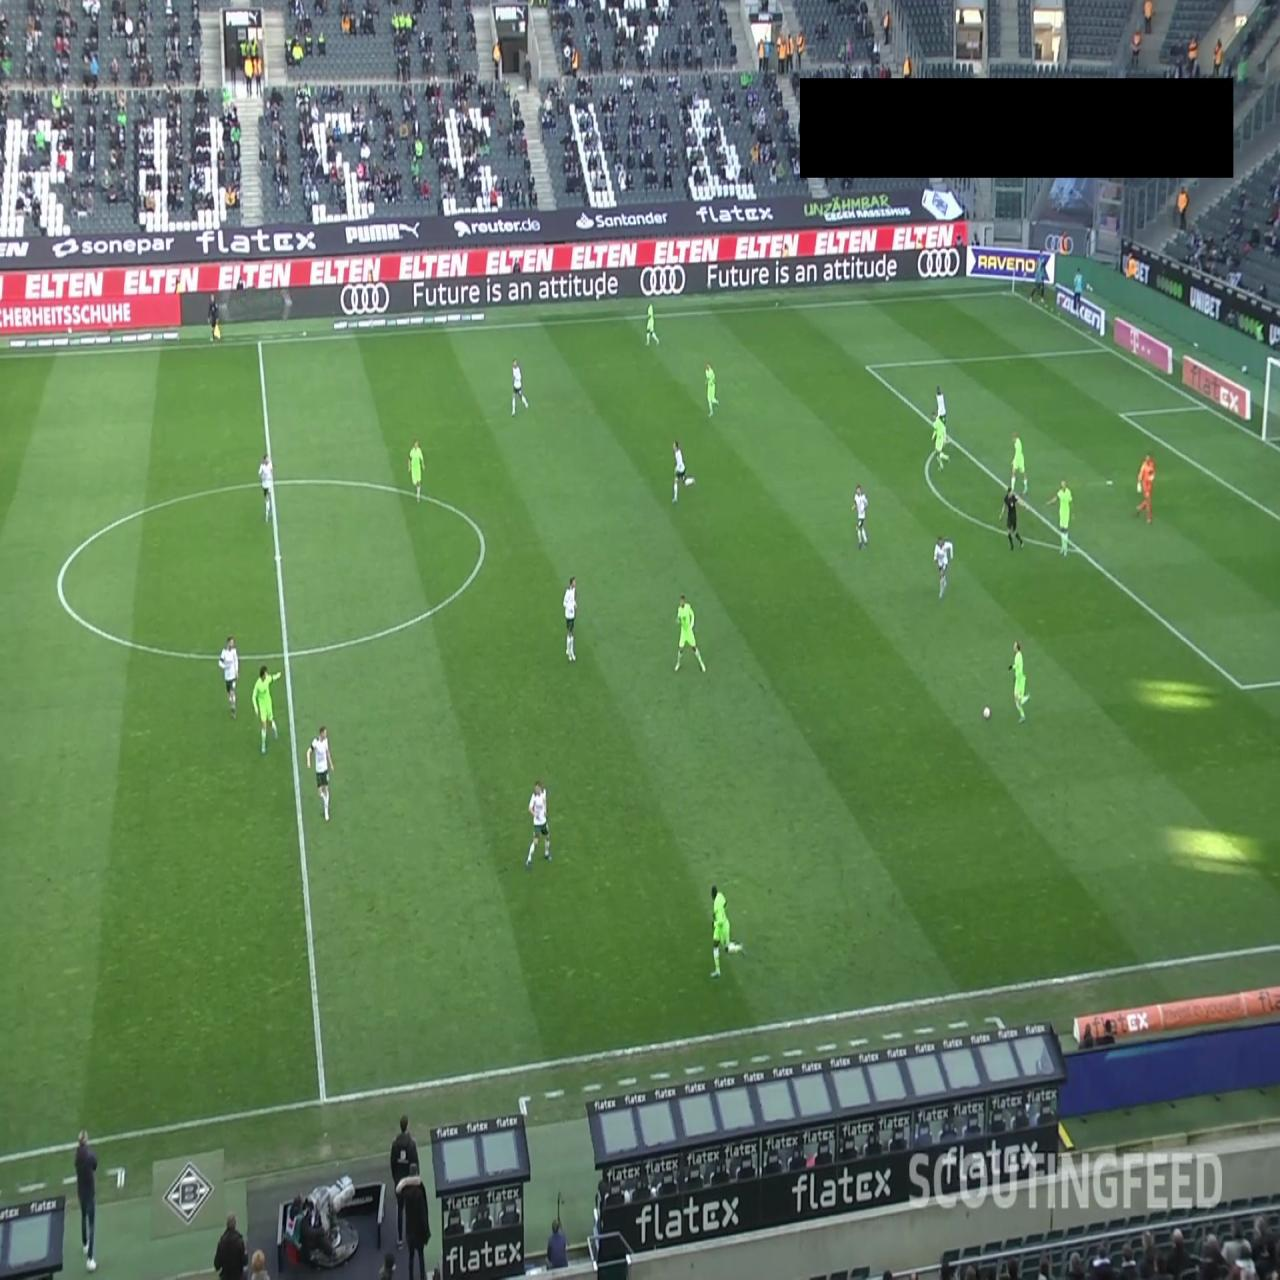ball: (983, 706, 991, 720)
goalkeeper: (1135, 453, 1155, 525)
player: (709, 884, 747, 979), (251, 664, 283, 755), (307, 724, 335, 821), (674, 593, 706, 673), (525, 778, 552, 868), (1046, 476, 1074, 558), (1008, 640, 1033, 723), (219, 634, 239, 718), (671, 440, 696, 505), (933, 532, 955, 598), (1009, 430, 1028, 497), (563, 575, 577, 661), (931, 411, 950, 472), (408, 437, 425, 504), (512, 358, 530, 416), (259, 454, 274, 523), (853, 484, 869, 548), (934, 384, 948, 447), (704, 361, 719, 418), (644, 302, 661, 348)
referee: (999, 484, 1026, 556), (205, 294, 222, 347)
